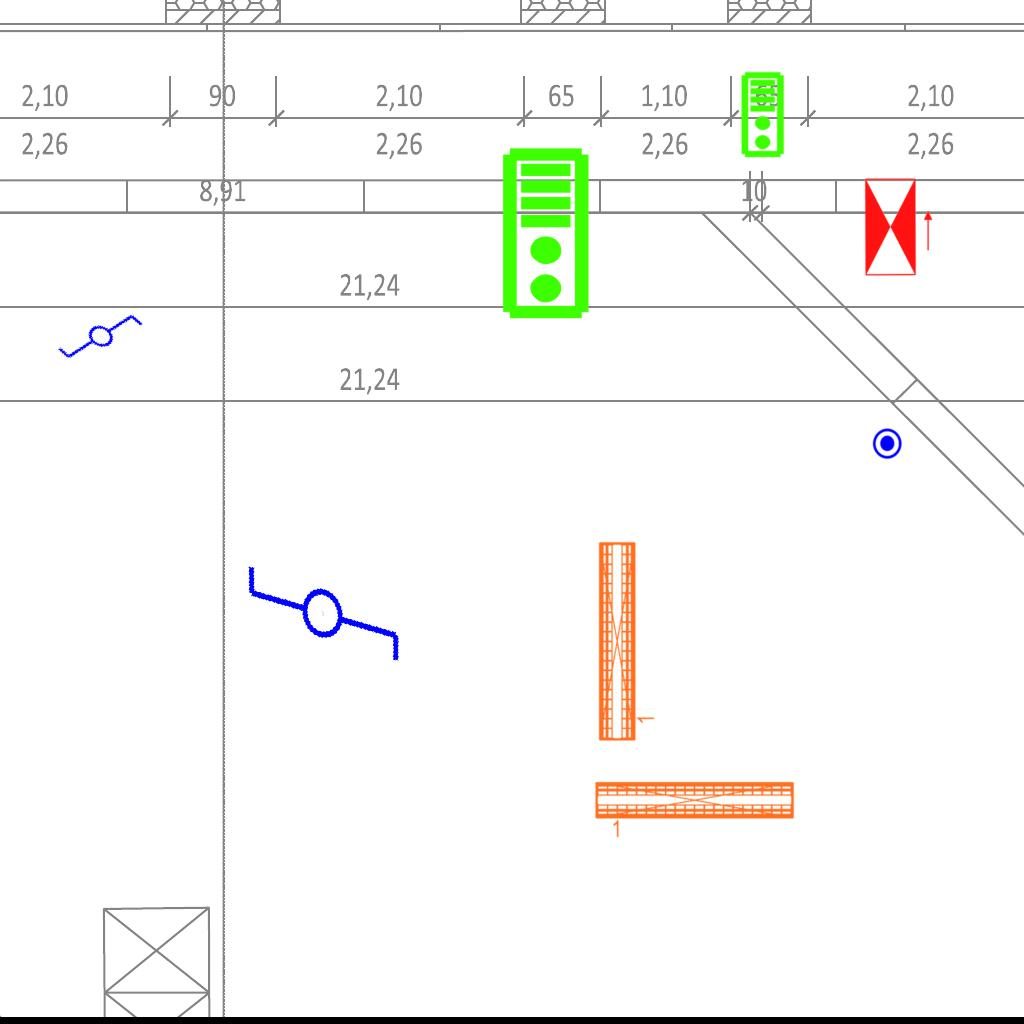Buero_Pendelleuchten_LED: (592, 777, 798, 842), (594, 538, 659, 744)
Fluchtwegpiktogramm: (862, 175, 935, 279)
Gegensprechanlage_mit_Video: (500, 146, 595, 322), (740, 71, 787, 159)
Taster: (872, 427, 905, 460)
Wechselschalter: (231, 509, 414, 701), (53, 289, 155, 389)
